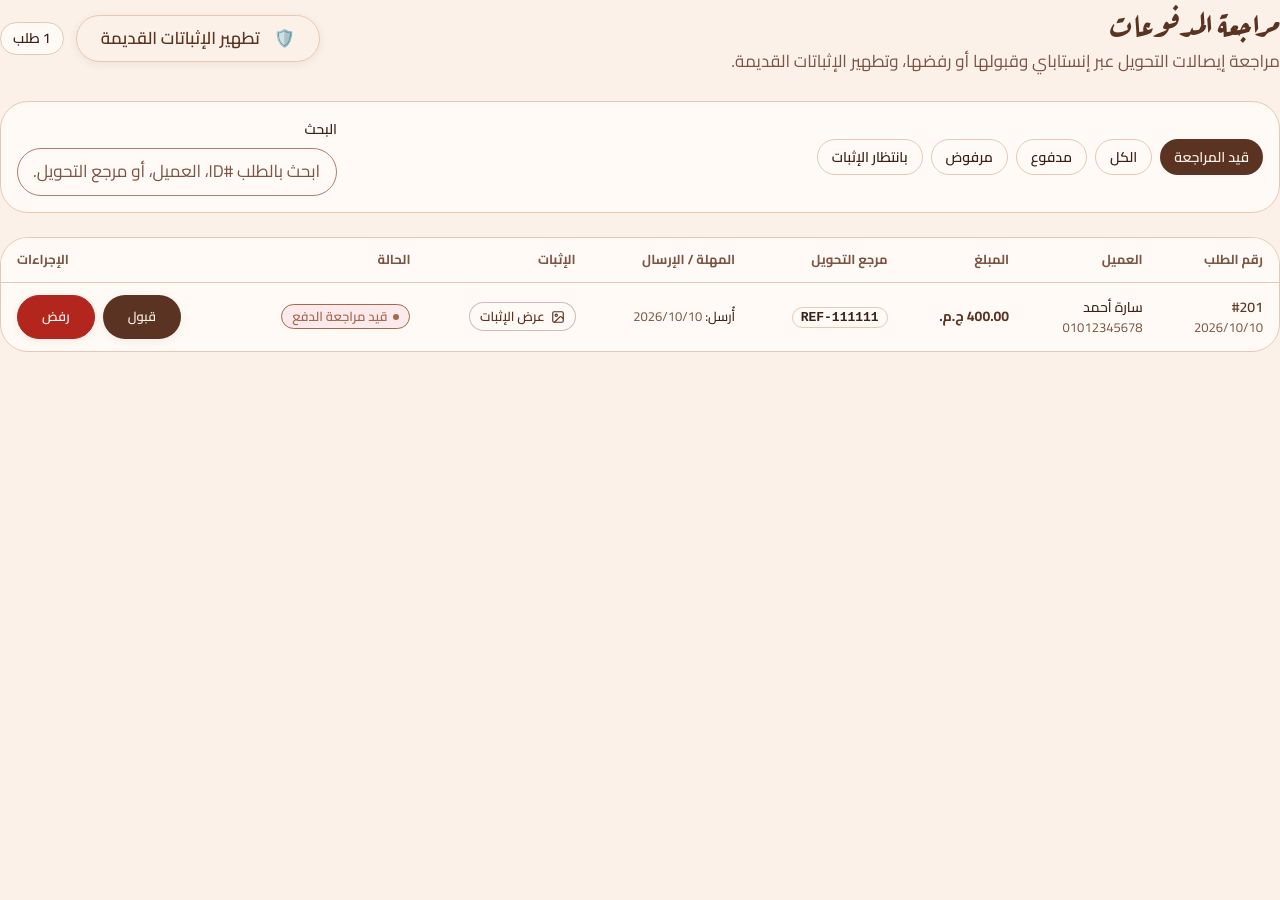
it: PaymentsPage UI & Interactivity › opens proof viewer modal with 60-second signed link
The width and height of the screenshot is (1280, 900).
Click the button "عرض الإثبات" at (522, 317), box [469,302,576,331]
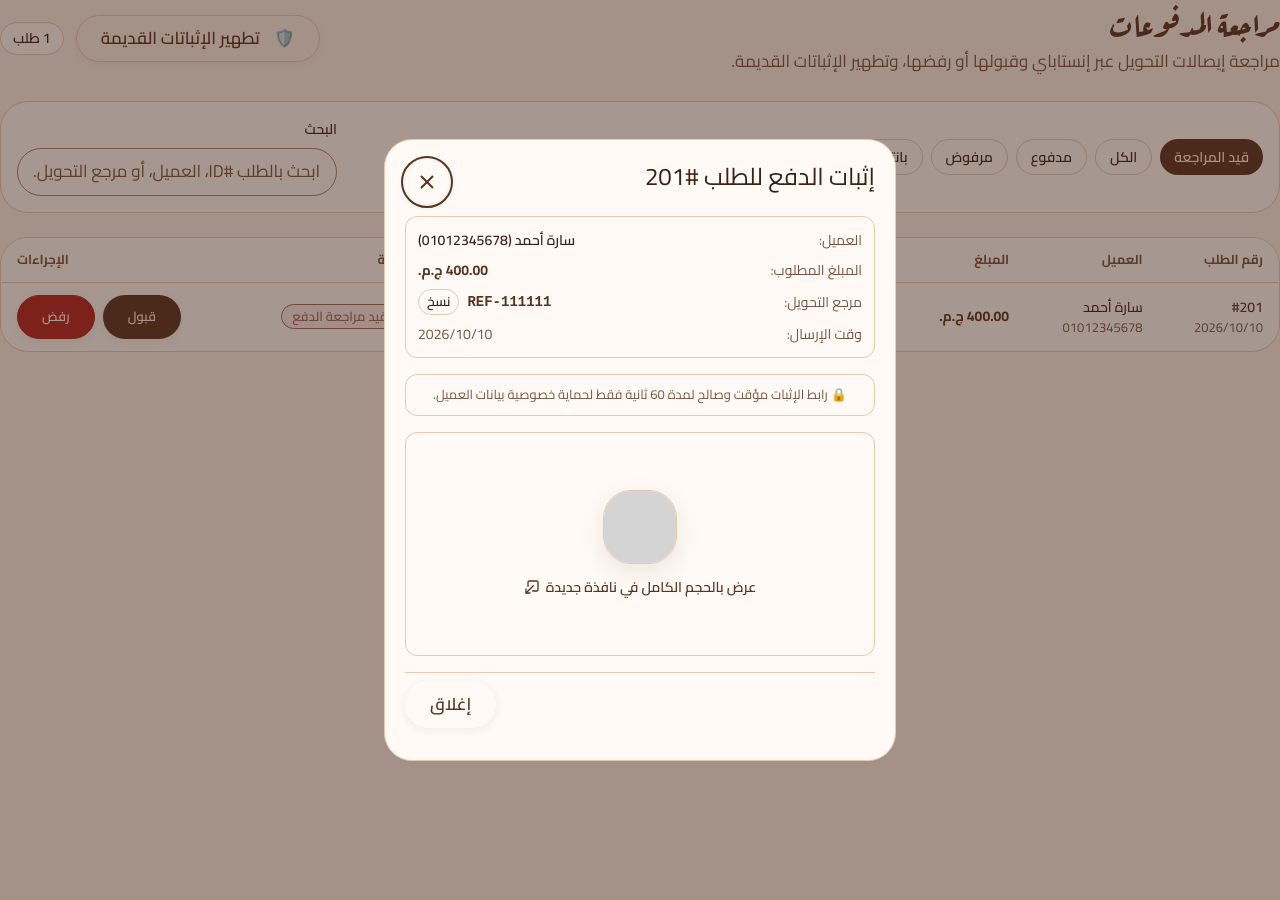
Expected: the heading "إثبات الدفع للطلب #201" is shown, [645,160,875,193]
Expected: the text "60 ثانية" is shown, [433,382,847,406]
